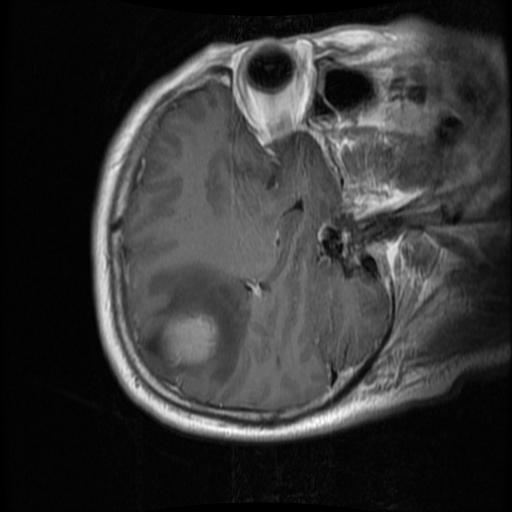meningioma: (159, 312, 220, 367)
